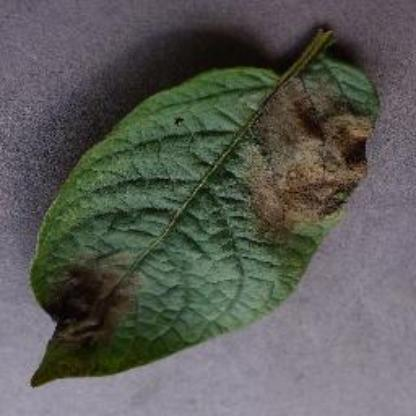Late-Blight: (24, 24, 382, 390)
